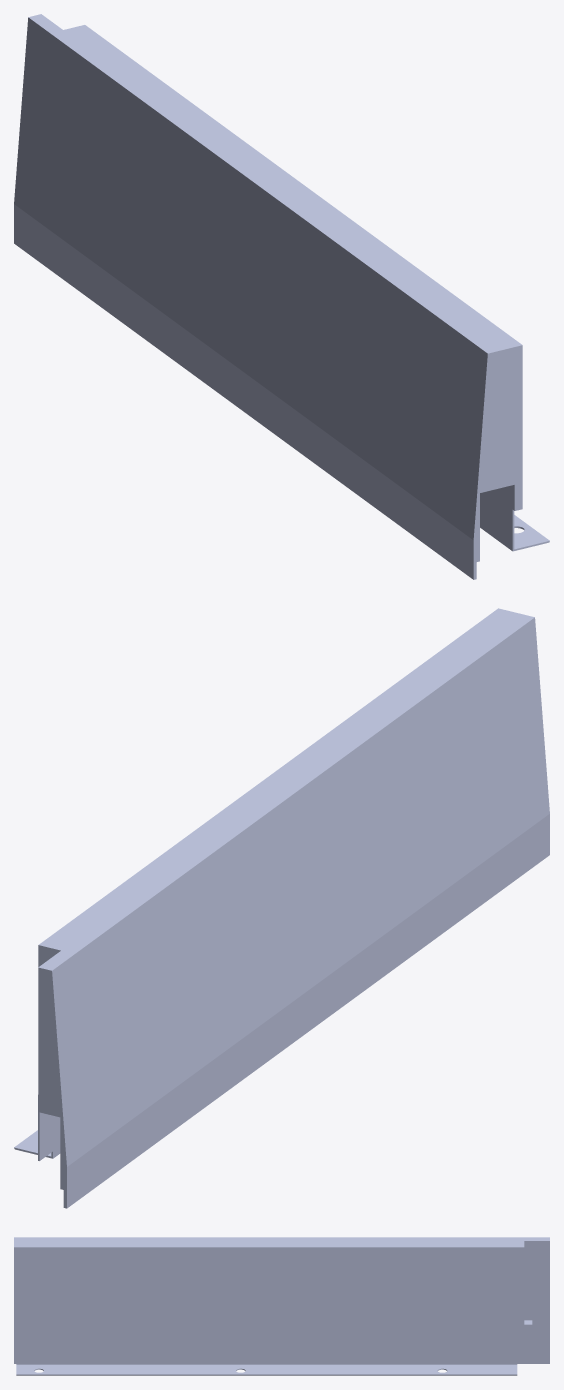
The model's file is mv-kava-M350-p.glb.
3 views of the same model, one above another, from view 1: azimuth 30°, elevation 25°; view 2: azimuth 150°, elevation 25°; view 3: azimuth 270°, elevation 25° (orthographic). The views are drawn at different scales.
Parts seen in each view (by area): view 1: 45905683; view 2: 45905683; view 3: 45905683.
Boxes of the visible parts, x1,y1,x2,y2 form: 45905683: (14, 14, 549, 579); 45905683: (14, 608, 549, 1208); 45905683: (14, 1237, 549, 1375).
Size of the model in its own units: 0.0335 by 0.091 by 0.3402.
